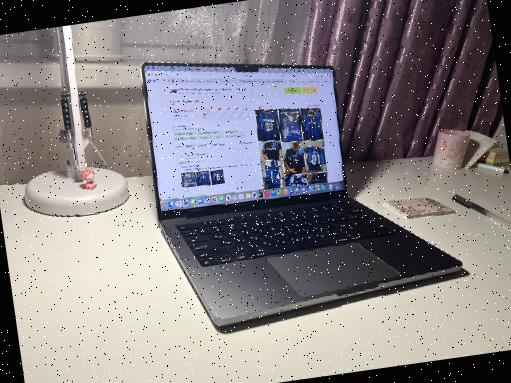aliexpress: (144, 55, 346, 205)
